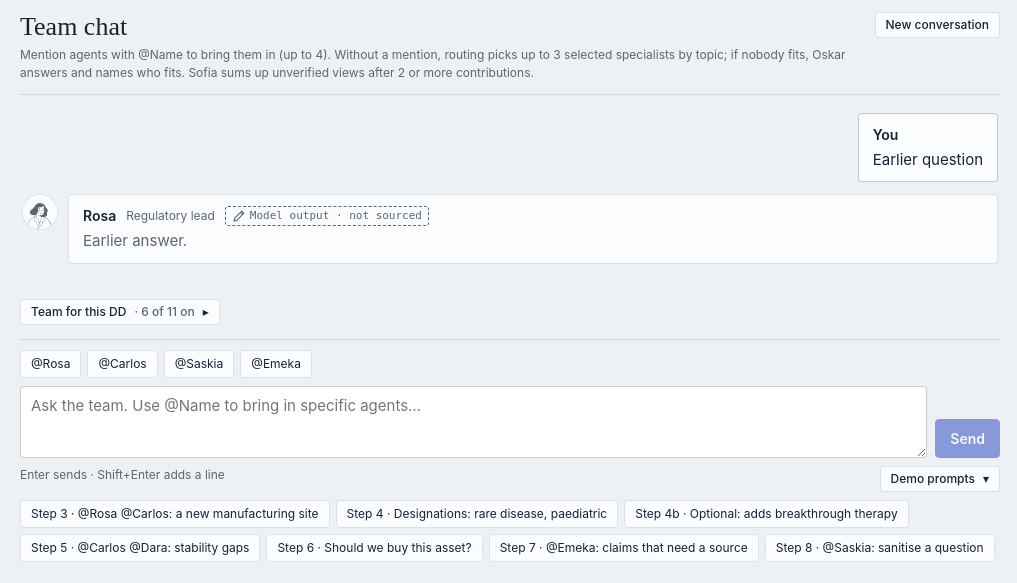
Scenario: ChatRoom: the live demo’s prompts › once the conversation has started, the demo prompts stay listed and each can be clicked again
Expected: the text "Earlier answer." is shown, [83, 231, 187, 250]
Expected: the text box named "Message the team" is enabled, [20, 386, 927, 458]
Click the button "Step 6 · Should we buy this asset?" at (374, 548), box [266, 534, 483, 562]
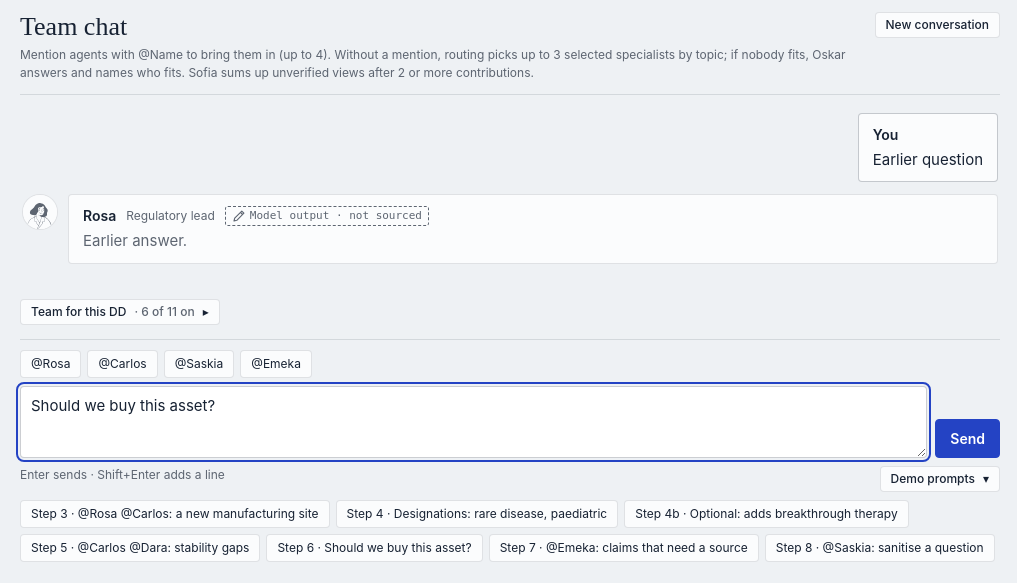
Result: the text box holds "Should we buy this asset?" at [20, 386, 927, 458]
Click the button "Step 6 · Should we buy this asset?" at (374, 548), box [266, 534, 483, 562]
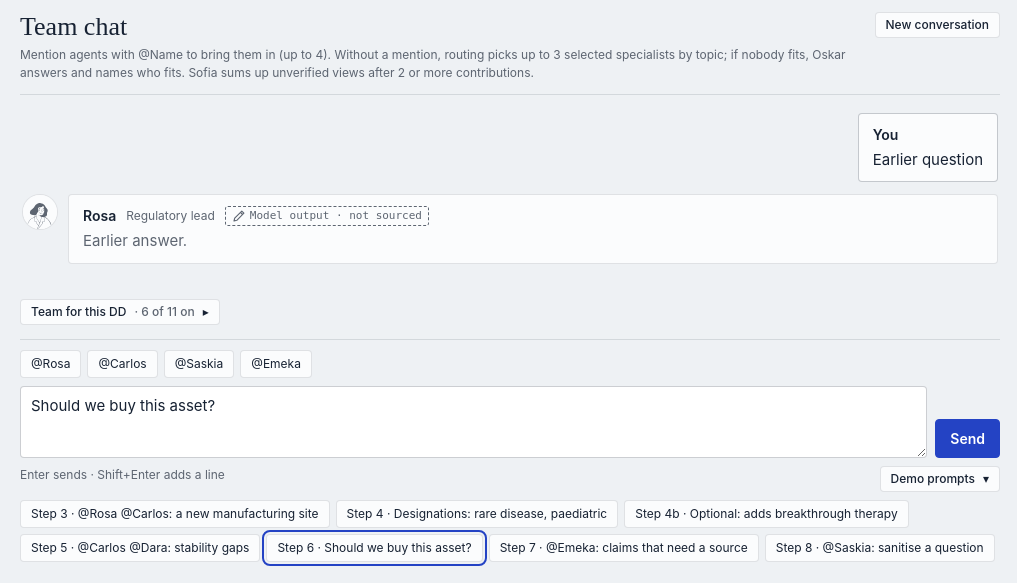
Result: the text box holds "Should we buy this asset?" at [20, 386, 927, 458]
Click the button "Step 7 · @Emeka: claims that need a source" at (624, 548), box [489, 534, 759, 562]
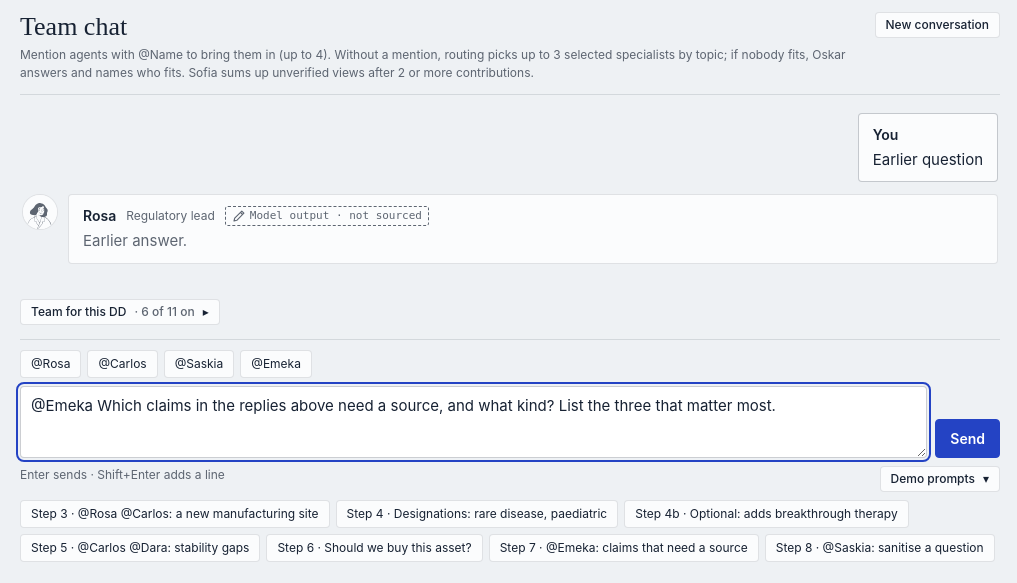
Result: the text box holds "@Emeka Which claims in the replies above need a source, and what kind? List the three that matter most." at [20, 386, 927, 458]
